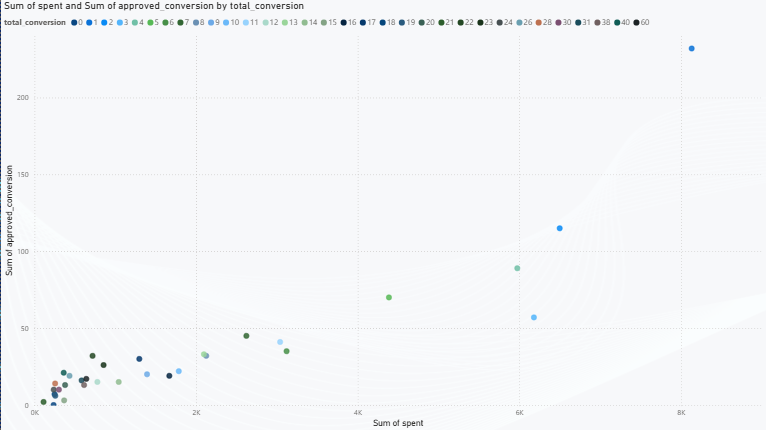

This screenshot's page, from the dashboard's own definition file:
{"tool":"powerbi","page":{"name":"Page 3","canvas":[1280,720],"ordinal":2},"visuals":[{"type":"scatterChart","fields":{"X":["Sum(campaign_data_with_metrics_updated.spent)"],"Y":["Sum(campaign_data_with_metrics_updated.approved_conversion)"],"Series":["campaign_data_with_metrics_updated.total_conversion"]},"box":[0,0,1280,720],"z":0}]}

Visuals, with their boxes in screenshot pixels (x1, y1, x2, y2), scaled from the page's 1280x720 canvas onto the 766x430 screenshot:
scatterChart - Sum(campaign_data_with_metrics_updated.spent) x Sum(campaign_data_with_metrics_updated.approved_conversion): [left=0, top=0, right=765, bottom=429]
